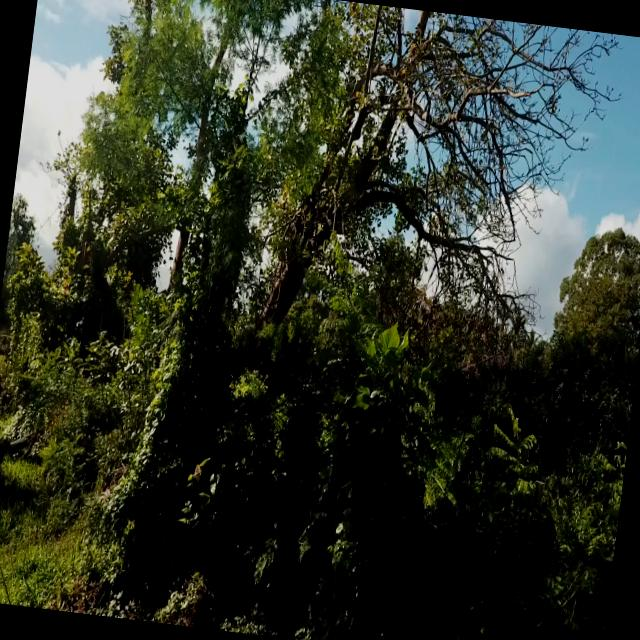Mysore-Thorn-Weed: (475, 392, 546, 538), (420, 384, 485, 524), (317, 227, 383, 339), (570, 489, 621, 562)
